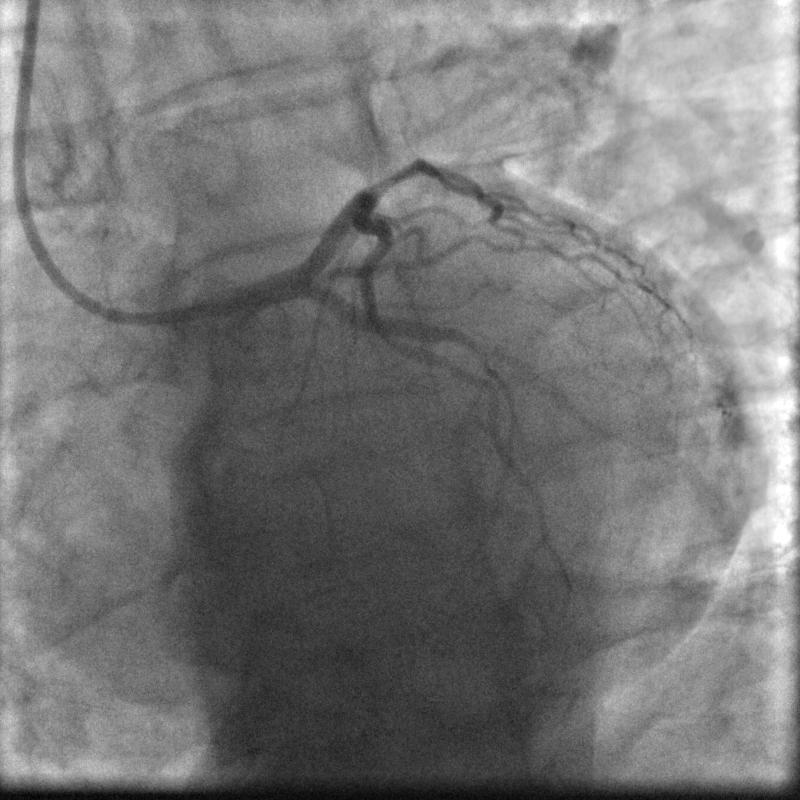Stenosis: (370, 154, 425, 190)
